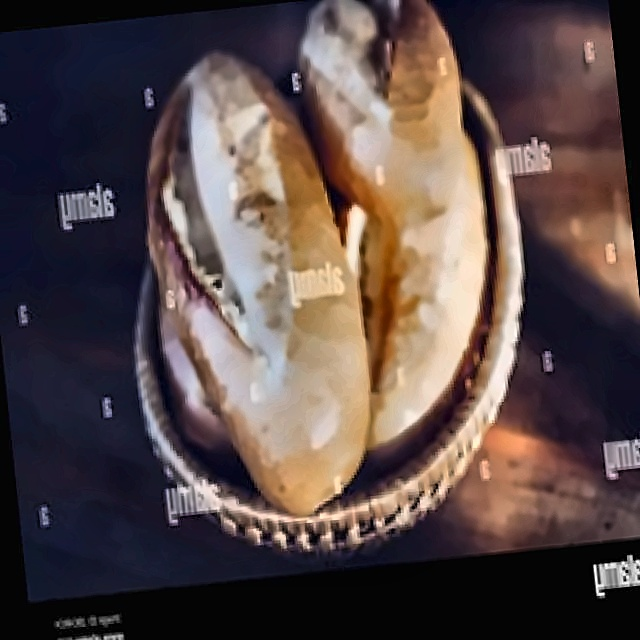bread: (118, 6, 514, 536), (207, 0, 640, 470)
